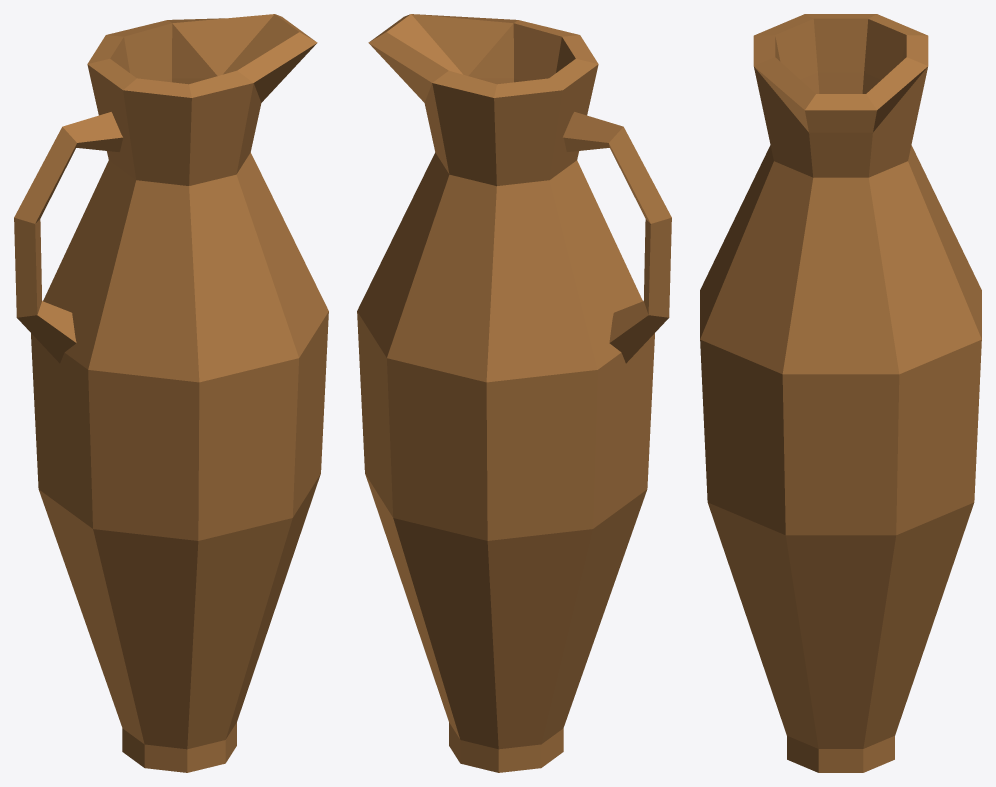
The model's file is Pot_8.fbx.
3 views of the same model, side by side, from view 1: azimuth 30°, elevation 25°; view 2: azimuth 150°, elevation 25°; view 3: azimuth 270°, elevation 25° (orthographic).
Parts seen in each view (by area): view 1: Pot_8; view 2: Pot_8; view 3: Pot_8.
Boxes of the visible parts, box(x1,y1,x2,y2) form: Pot_8: box(14, 14, 328, 772); Pot_8: box(357, 14, 671, 772); Pot_8: box(700, 14, 981, 772).
Size of the model in its own units: 17.92 by 41.87 by 15.08.
